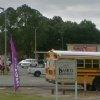Bus: (40, 42, 100, 91)
